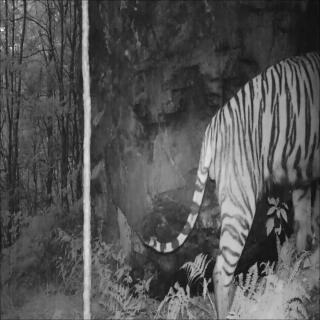Tiger: (143, 35, 320, 320)
